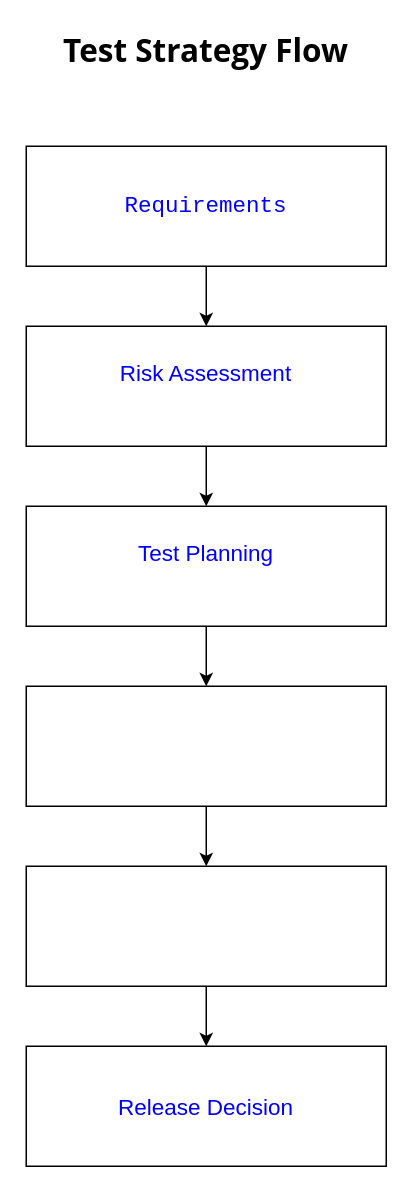
Image size: 413x1193. Some labels were removed from this diagram. Here are the shapes that lost their labels. From the top down, the centre of each, then its label:
At point 205,745: "Test Execution".
At point 205,925: "Defect Management".
